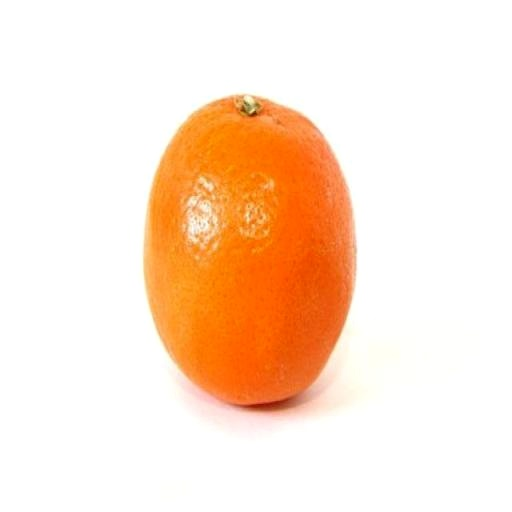fruit: (144, 96, 355, 404)
